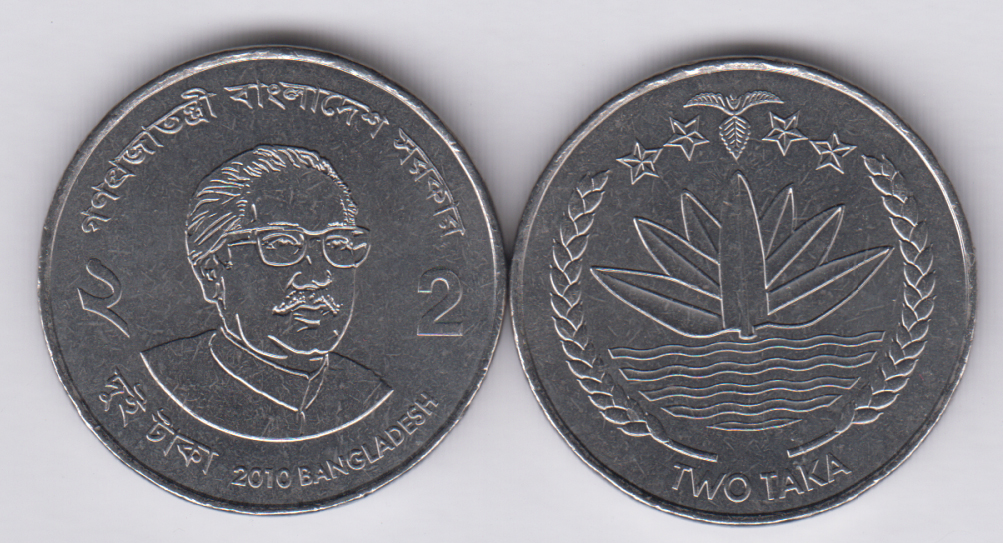5 taka coin: (36, 41, 509, 519), (515, 52, 980, 528)
